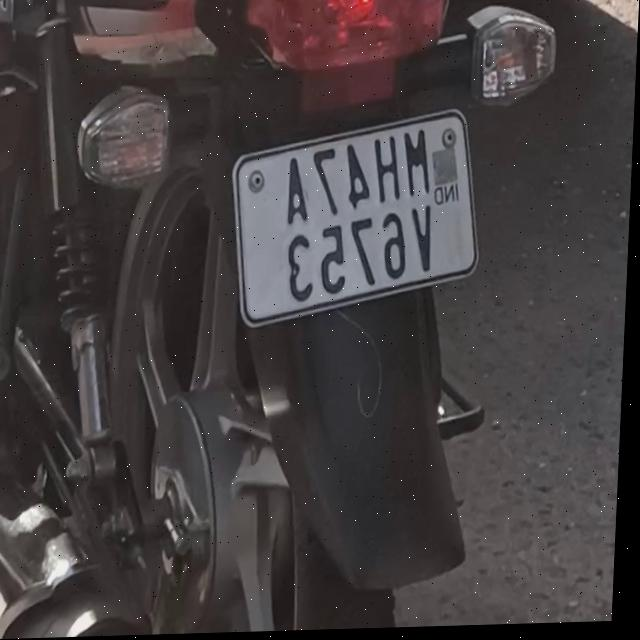plate: (227, 93, 492, 340)
